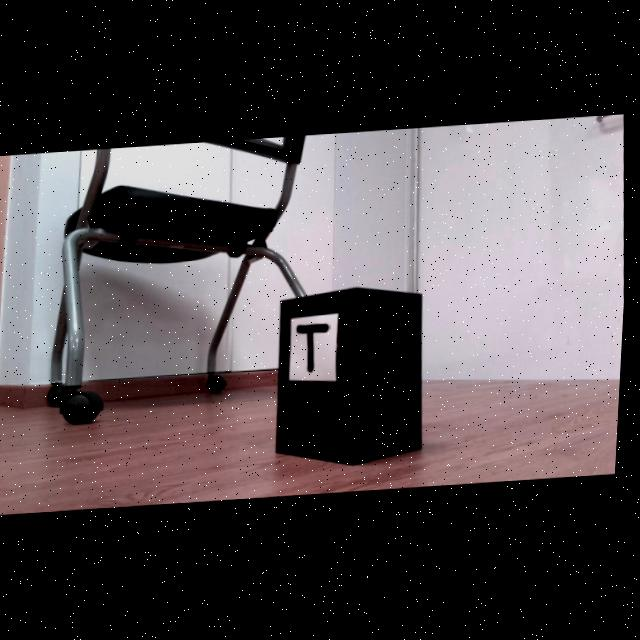T: (301, 325, 333, 374)
